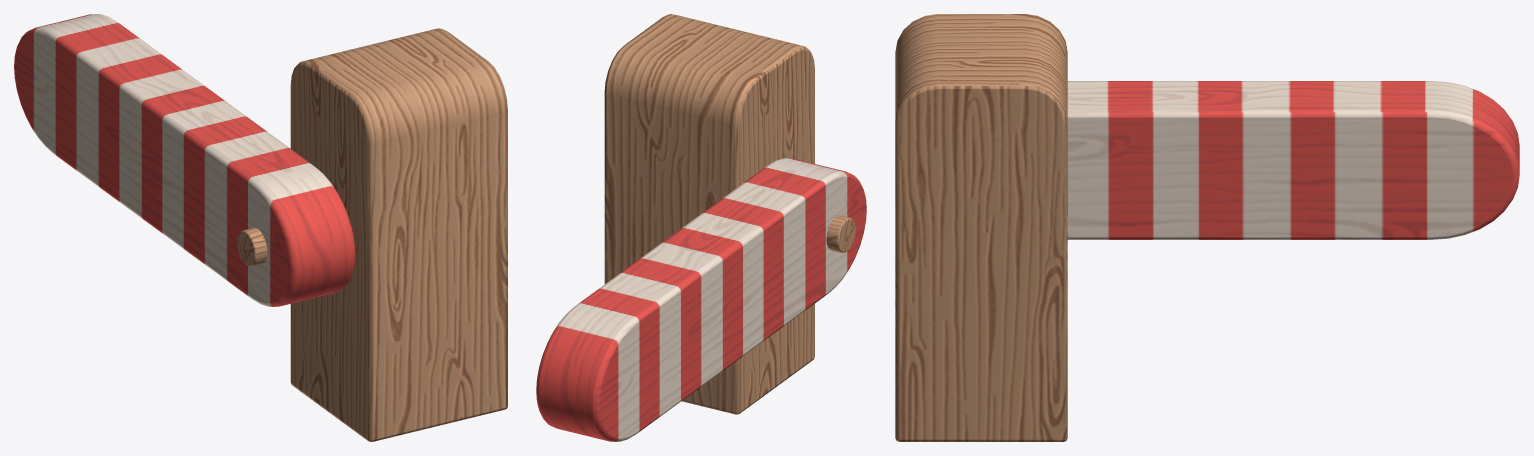
The model's file is barrierfinal.fbx.
3 renders of one model, left to right at view 1: azimuth 30°, elevation 25°; view 2: azimuth 150°, elevation 25°; view 3: azimuth 270°, elevation 25°, orthographic. The views are drawn at different scales.
Visible parts, largest first — view 1: Gate, Barrier.001, Cylinder.001; view 2: Barrier.001, Gate, Cylinder.001; view 3: Gate, Barrier.001.
Boxes of the visible parts, x1,y1,x2,y2 form: Gate: (290,28,507,441); Barrier.001: (14,14,355,306); Cylinder.001: (237,227,267,266); Barrier.001: (536,158,866,441); Gate: (604,14,814,414); Cylinder.001: (826,215,855,252); Gate: (895,14,1067,441); Barrier.001: (1067,81,1519,239).
Size of the model in its own units: 126 by 186 by 293.
1 material, 1 textured.
